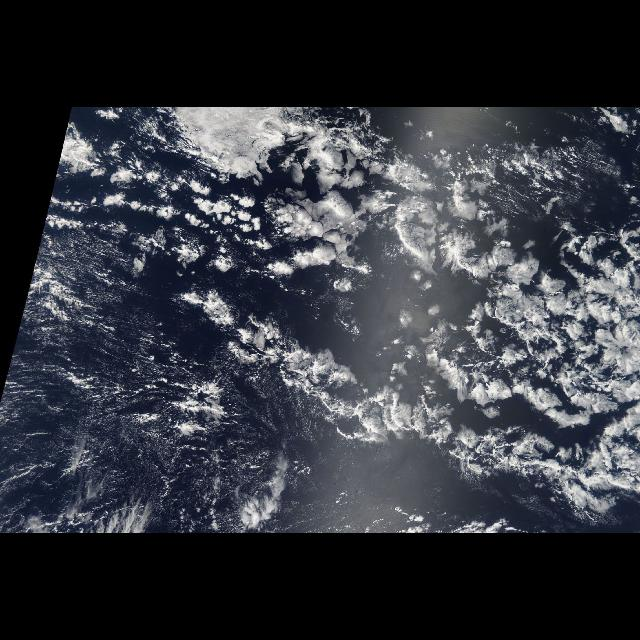Gravel: (20, 328, 262, 518)
